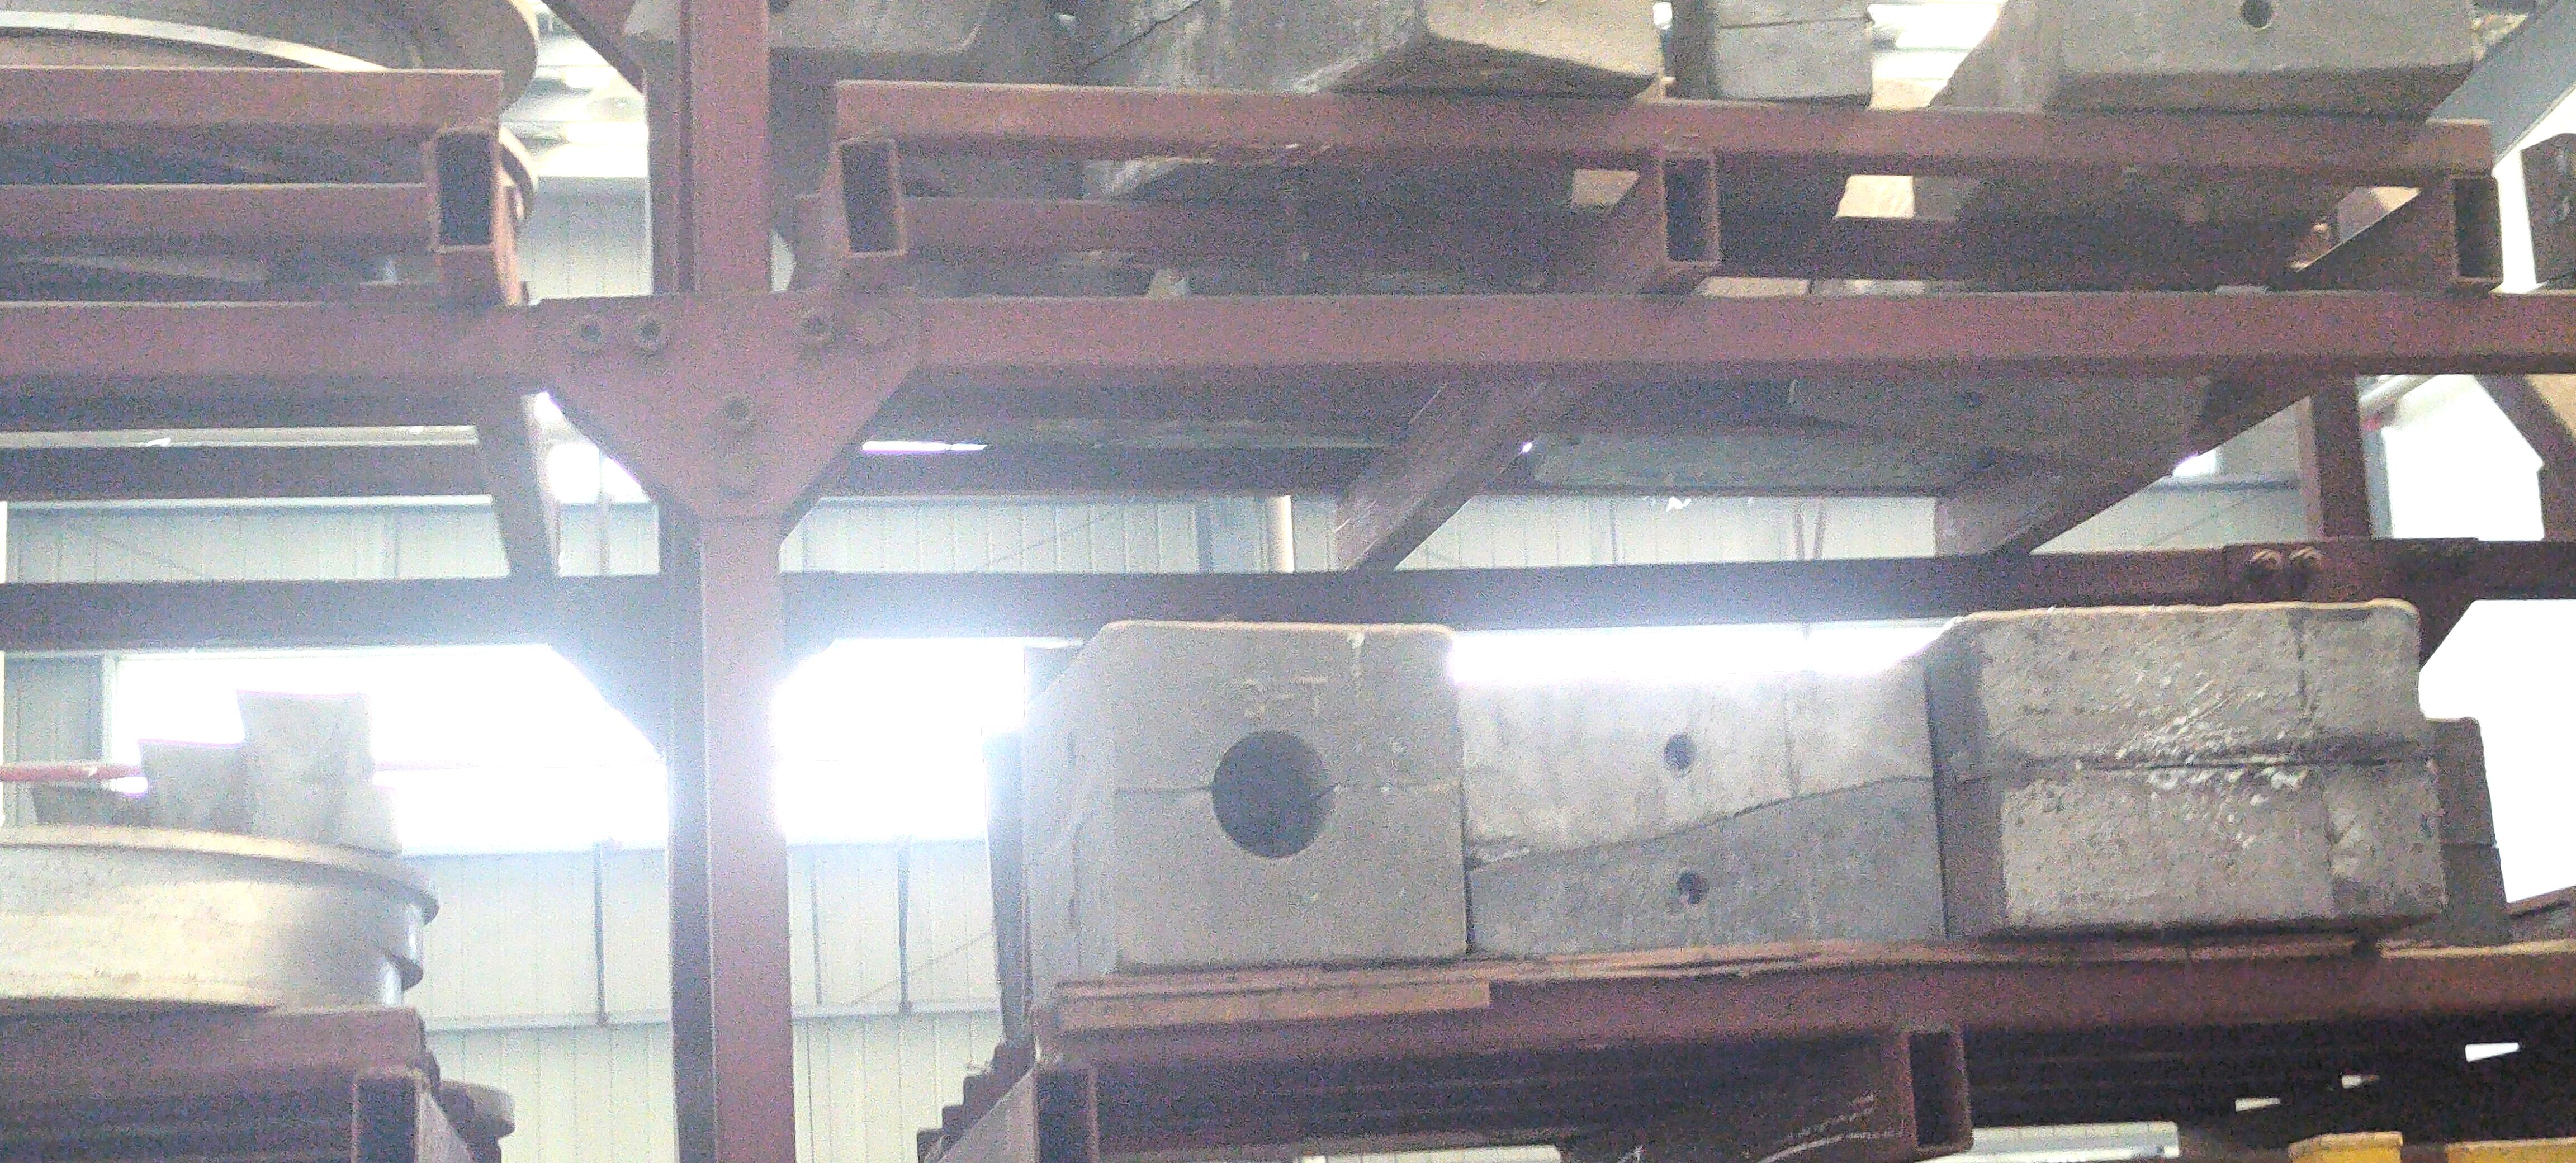pouring hole: (1211, 733, 1334, 857)
